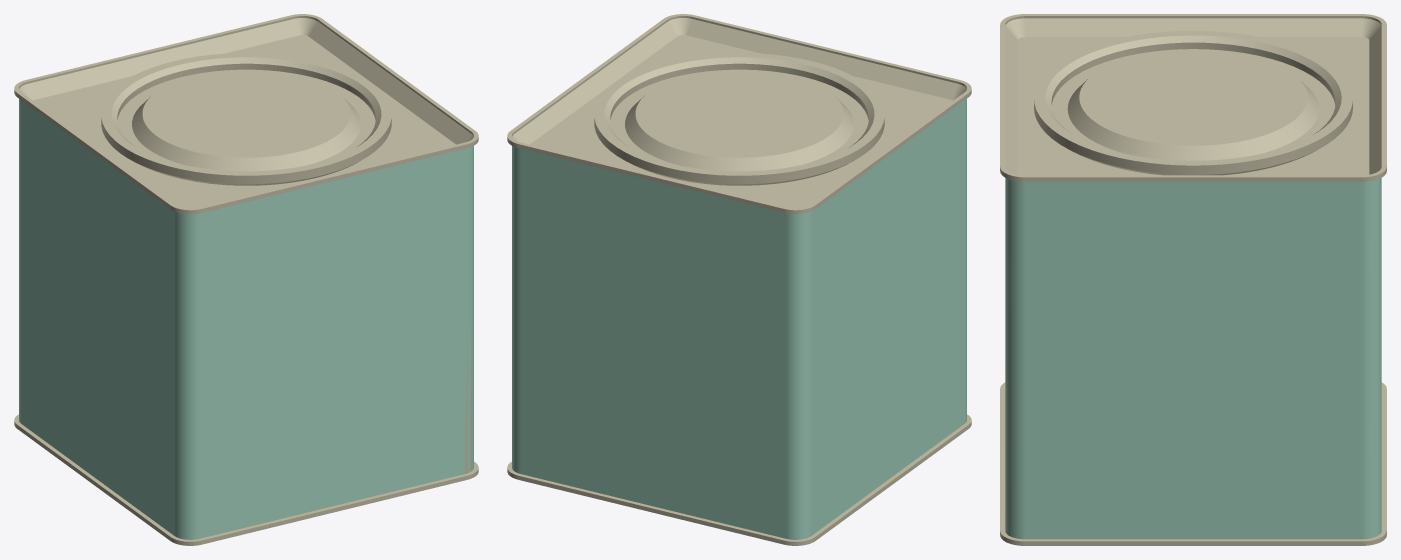
Rendered from 975_tea_can.glb.
3 views of the same model, side by side, from view 1: azimuth 30°, elevation 25°; view 2: azimuth 150°, elevation 25°; view 3: azimuth 270°, elevation 25° (orthographic). The views are drawn at different scales.
Parts seen in each view (by area): view 1: Body, huta; view 2: Body, huta; view 3: Body, huta.
Part boxes in pixels (<box>): Body: <box>14,14,478,545</box>; huta: <box>101,53,391,185</box>; Body: <box>507,14,971,545</box>; huta: <box>594,53,884,185</box>; Body: <box>1000,14,1386,545</box>; huta: <box>1034,30,1352,175</box>.
Size of the model in its own units: 0.077 by 0.081 by 0.077.
